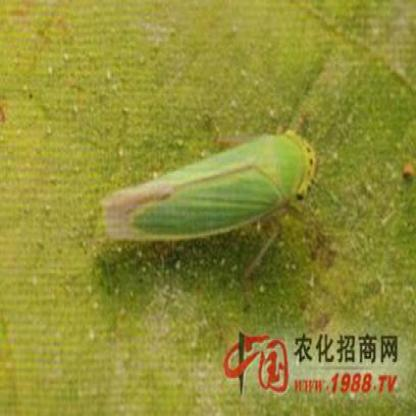Green-Leafhopper: (94, 122, 340, 270)
